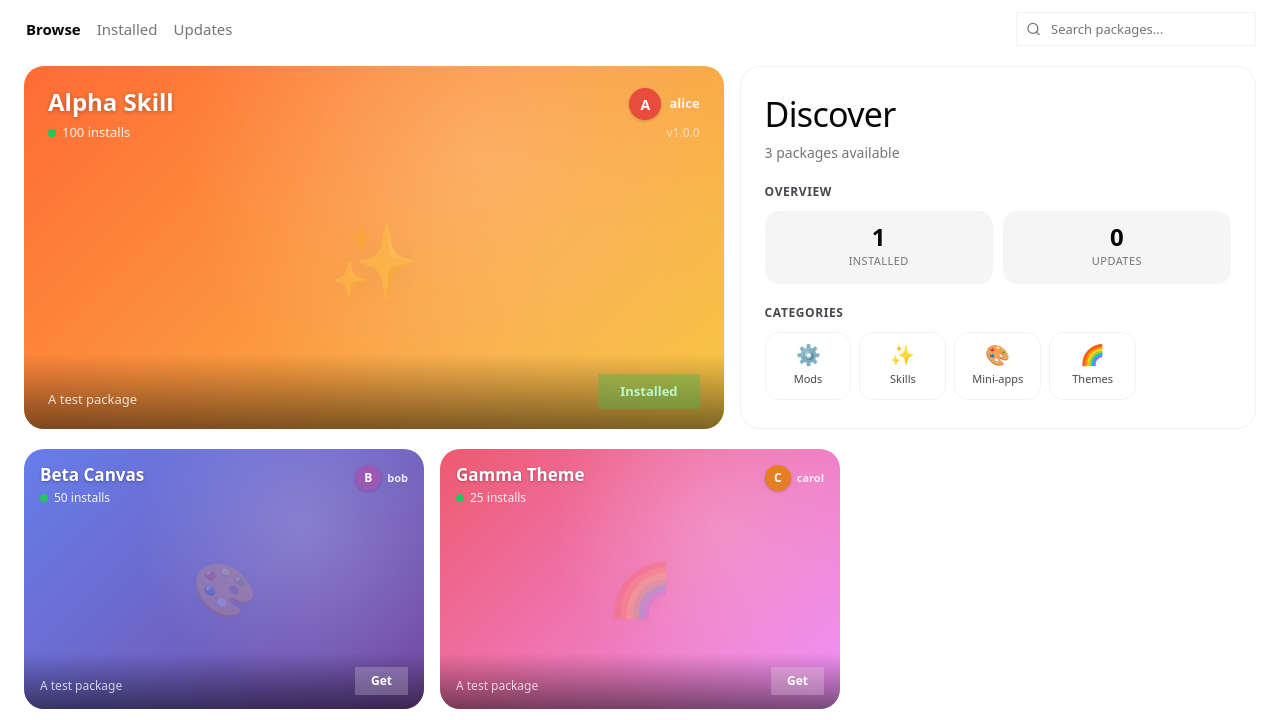
Scenario: UpdatesList › shows empty state when all packages are up to date
The image size is (1280, 720).
Click the button with class "store-header-tab" showing "Updates".
click(203, 29)  # box x1=172 y1=14 x2=234 y2=44
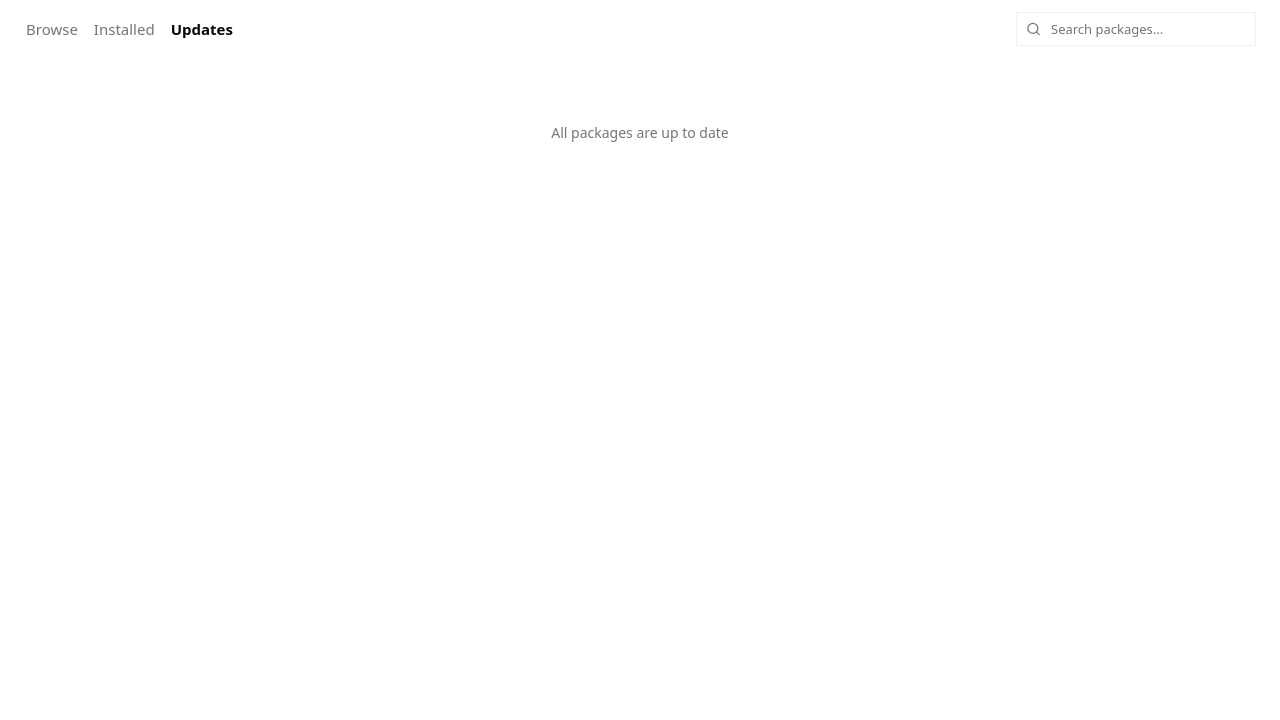
Expected: the text "All packages are up to date" is shown, x1=551 y1=123 x2=729 y2=142
